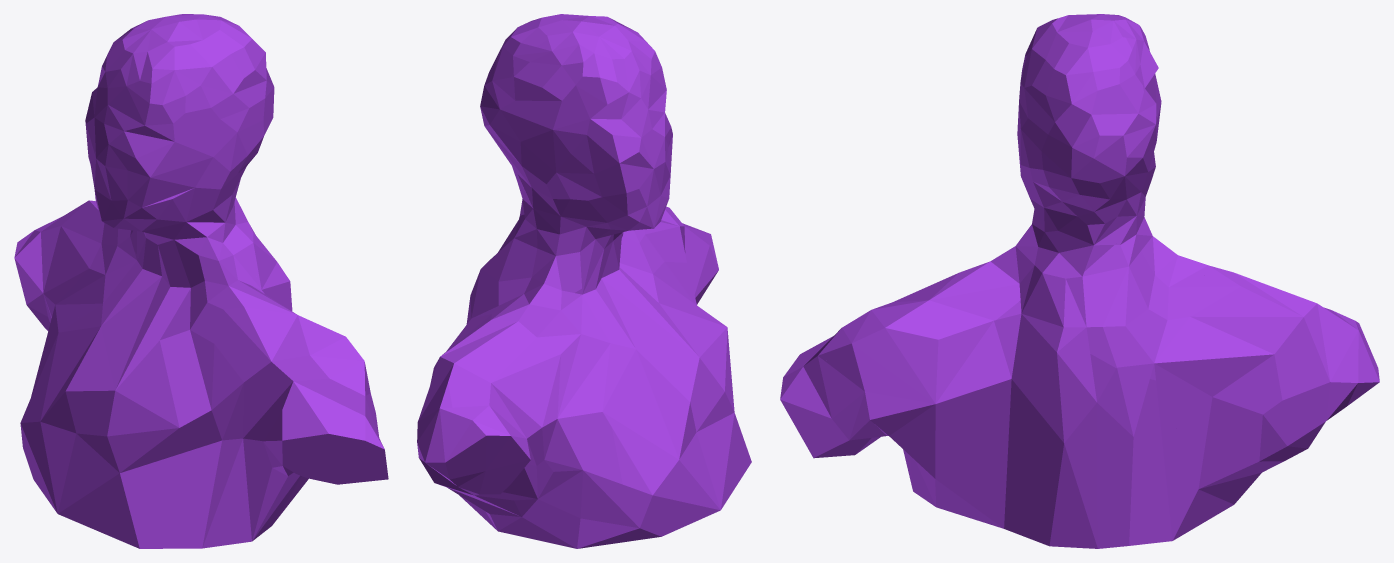
Rendered from Statue.004_chunks.fbx.
3 views of the same model, side by side, from view 1: azimuth 30°, elevation 25°; view 2: azimuth 150°, elevation 25°; view 3: azimuth 270°, elevation 25° (orthographic). The views are drawn at different scales.
Parts seen in each view (by area): view 1: Statue.004_0, Statue.004_1, Statue.004_2, Statue.004_3, Statue.004_4, Statue.004_6, Statue.004_5; view 2: Statue.004_2, Statue.004_0, Statue.004_4, Statue.004_3, Statue.004_1, Statue.004_6; view 3: Statue.004_5, Statue.004_1, Statue.004_4, Statue.004_6, Statue.004_0, Statue.004_2.
Part boxes in pixels (x1=…): Statue.004_0: x1=20, y1=178, x2=388, y2=548; Statue.004_1: x1=131, y1=14, x2=373, y2=403; Statue.004_2: x1=14, y1=16, x2=167, y2=277; Statue.004_3: x1=31, y1=256, x2=132, y2=396; Statue.004_4: x1=19, y1=201, x2=95, y2=330; Statue.004_6: x1=96, y1=218, x2=282, y2=285; Statue.004_5: x1=252, y1=271, x2=308, y2=501; Statue.004_2: x1=448, y1=31, x2=670, y2=446; Statue.004_0: x1=586, y1=149, x2=751, y2=540; Statue.004_4: x1=417, y1=341, x2=592, y2=548; Statue.004_3: x1=542, y1=301, x2=634, y2=546; Statue.004_1: x1=480, y1=14, x2=672, y2=215; Statue.004_6: x1=451, y1=214, x2=589, y2=345; Statue.004_5: x1=872, y1=301, x2=1180, y2=548; Statue.004_1: x1=822, y1=14, x2=1149, y2=408; Statue.004_4: x1=1175, y1=296, x2=1379, y2=536; Statue.004_6: x1=1020, y1=236, x2=1277, y2=388; Statue.004_0: x1=780, y1=246, x2=1018, y2=510; Statue.004_2: x1=1096, y1=14, x2=1365, y2=338.
Bounding box in the file's own units: 183 × 342 × 389.
